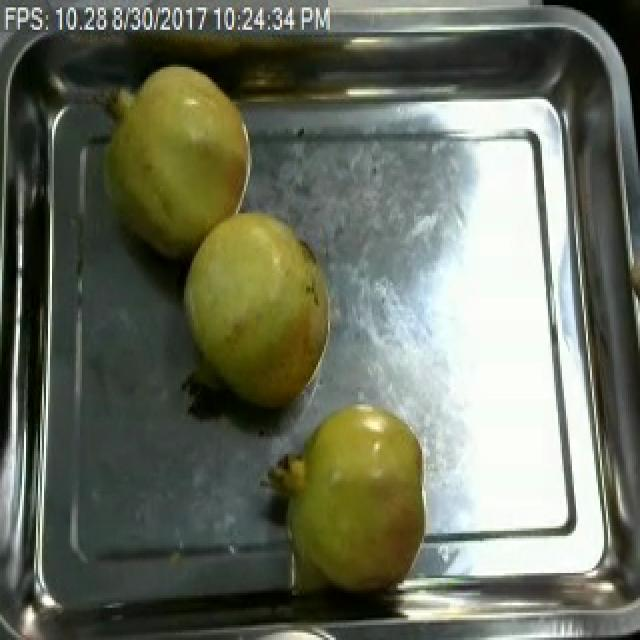fruit: (174, 194, 340, 419), (266, 384, 440, 598), (96, 59, 262, 260)
